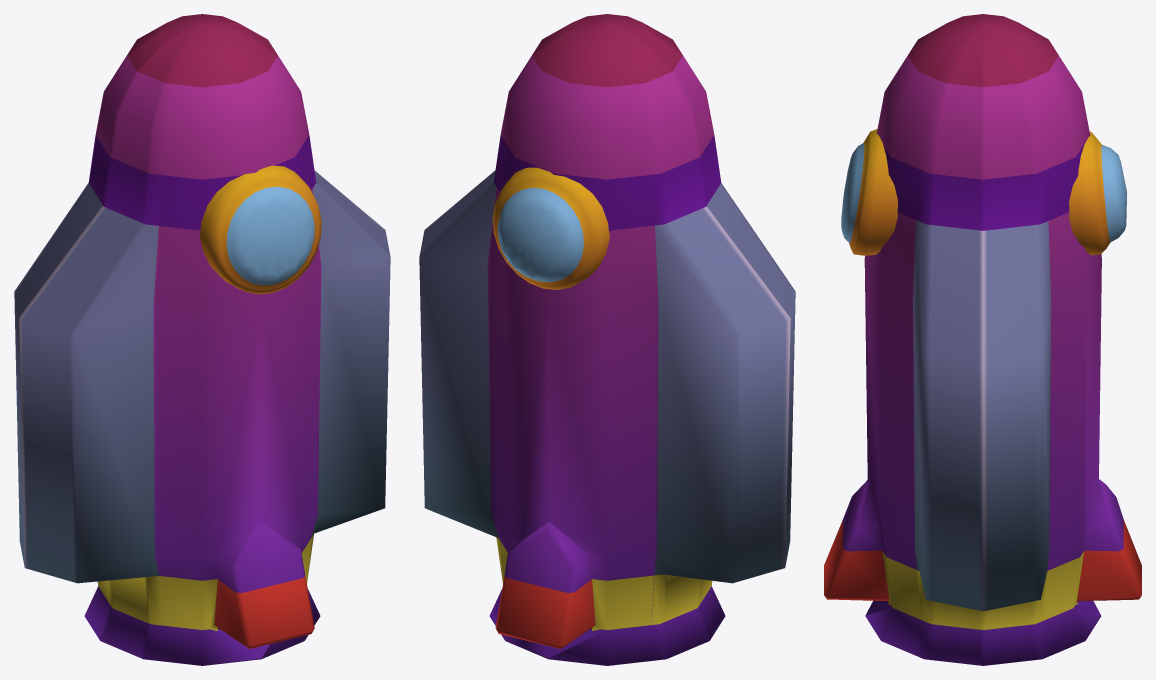
Rendered from ракета 4.fbx.
3 views of the same model, side by side, from view 1: azimuth 30°, elevation 25°; view 2: azimuth 150°, elevation 25°; view 3: azimuth 270°, elevation 25° (orthographic).
Parts seen in each view (by area): view 1: Cylinder.004, Cylinder.003; view 2: Cylinder.004, Cylinder.003; view 3: Cylinder.004, Cylinder.003.
Boxes of the visible parts, left/top/right/bottom form: Cylinder.004: left=14, top=14, right=390, bottom=665; Cylinder.003: left=199, top=165, right=321, bottom=294; Cylinder.004: left=419, top=14, right=795, bottom=665; Cylinder.003: left=492, top=167, right=609, bottom=289; Cylinder.004: left=824, top=14, right=1141, bottom=665; Cylinder.003: left=841, top=129, right=1127, bottom=255.
Bounding box in the file's own units: 371 × 575 × 279.
